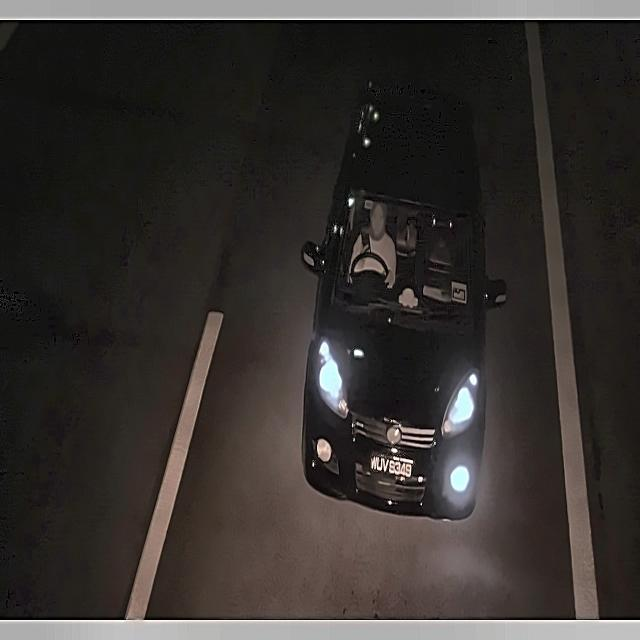car: (366, 450, 418, 481)
